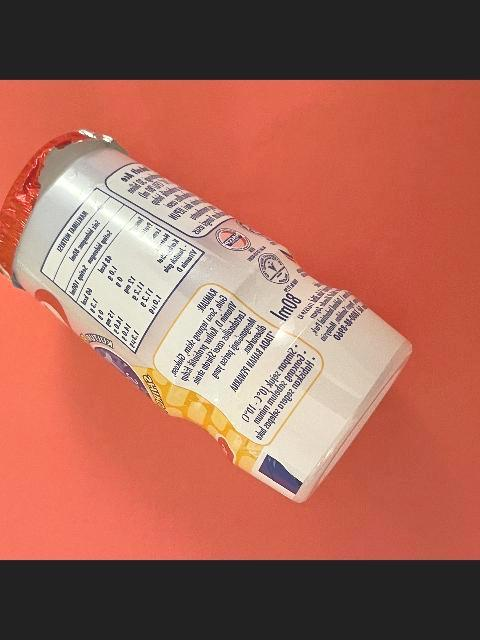plasticbottle: (0, 127, 416, 502)
